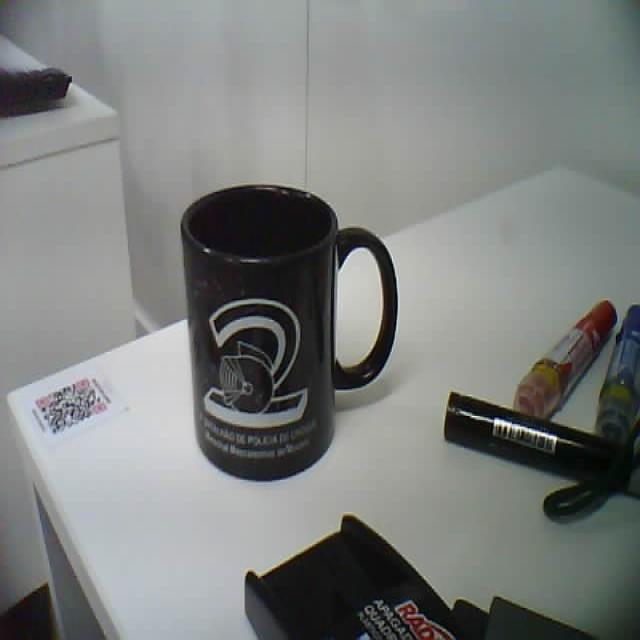caneca: (180, 184, 398, 479)
